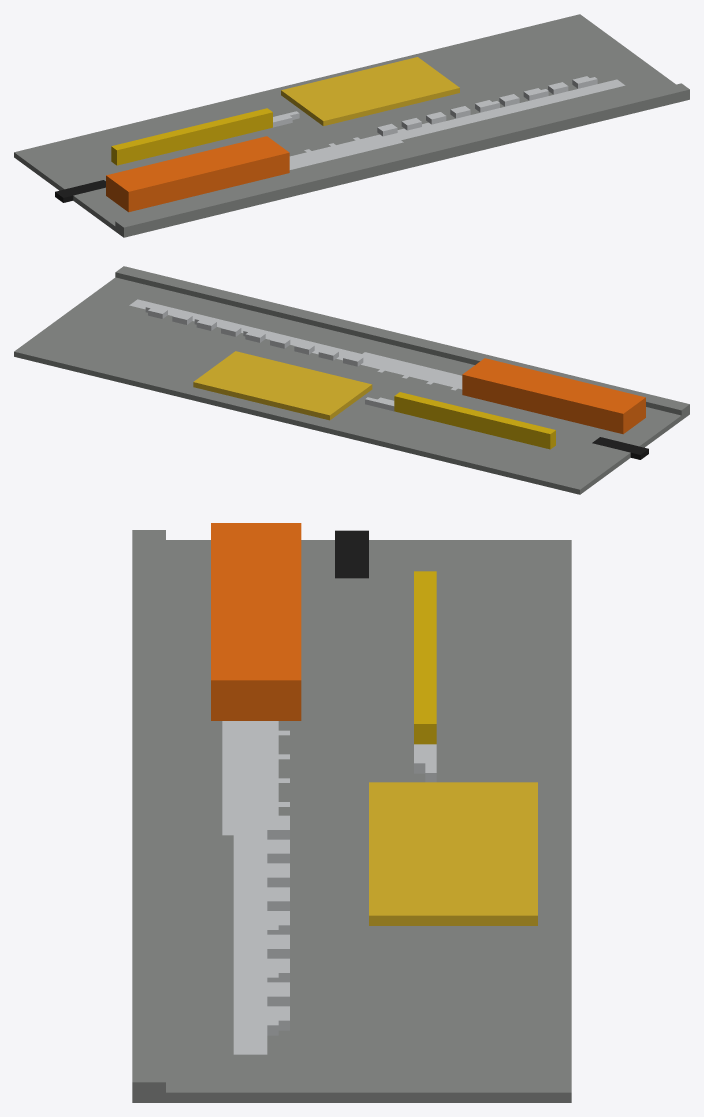
File: misc_repairkit.glb
3 renders of one model, top to bottom at view 1: azimuth 30°, elevation 25°; view 2: azimuth 150°, elevation 25°; view 3: azimuth 270°, elevation 25°, orthographic. The views are drawn at different scales.
Parts seen in each view (by area): view 1: misc_repairkit:compound; view 2: misc_repairkit:compound; view 3: misc_repairkit:compound.
Part boxes in pixels (x1,y1,x2,y2): misc_repairkit:compound: (14, 14, 689, 237); misc_repairkit:compound: (14, 266, 689, 494); misc_repairkit:compound: (132, 523, 571, 1102).
Size of the model in its own units: 0.472 by 0.02 by 0.156.
